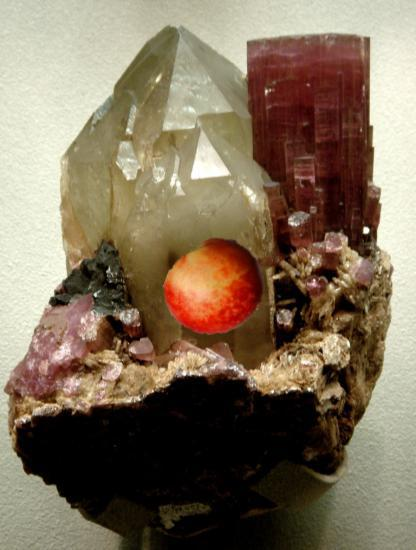Nectarine: (166, 237, 266, 337)
